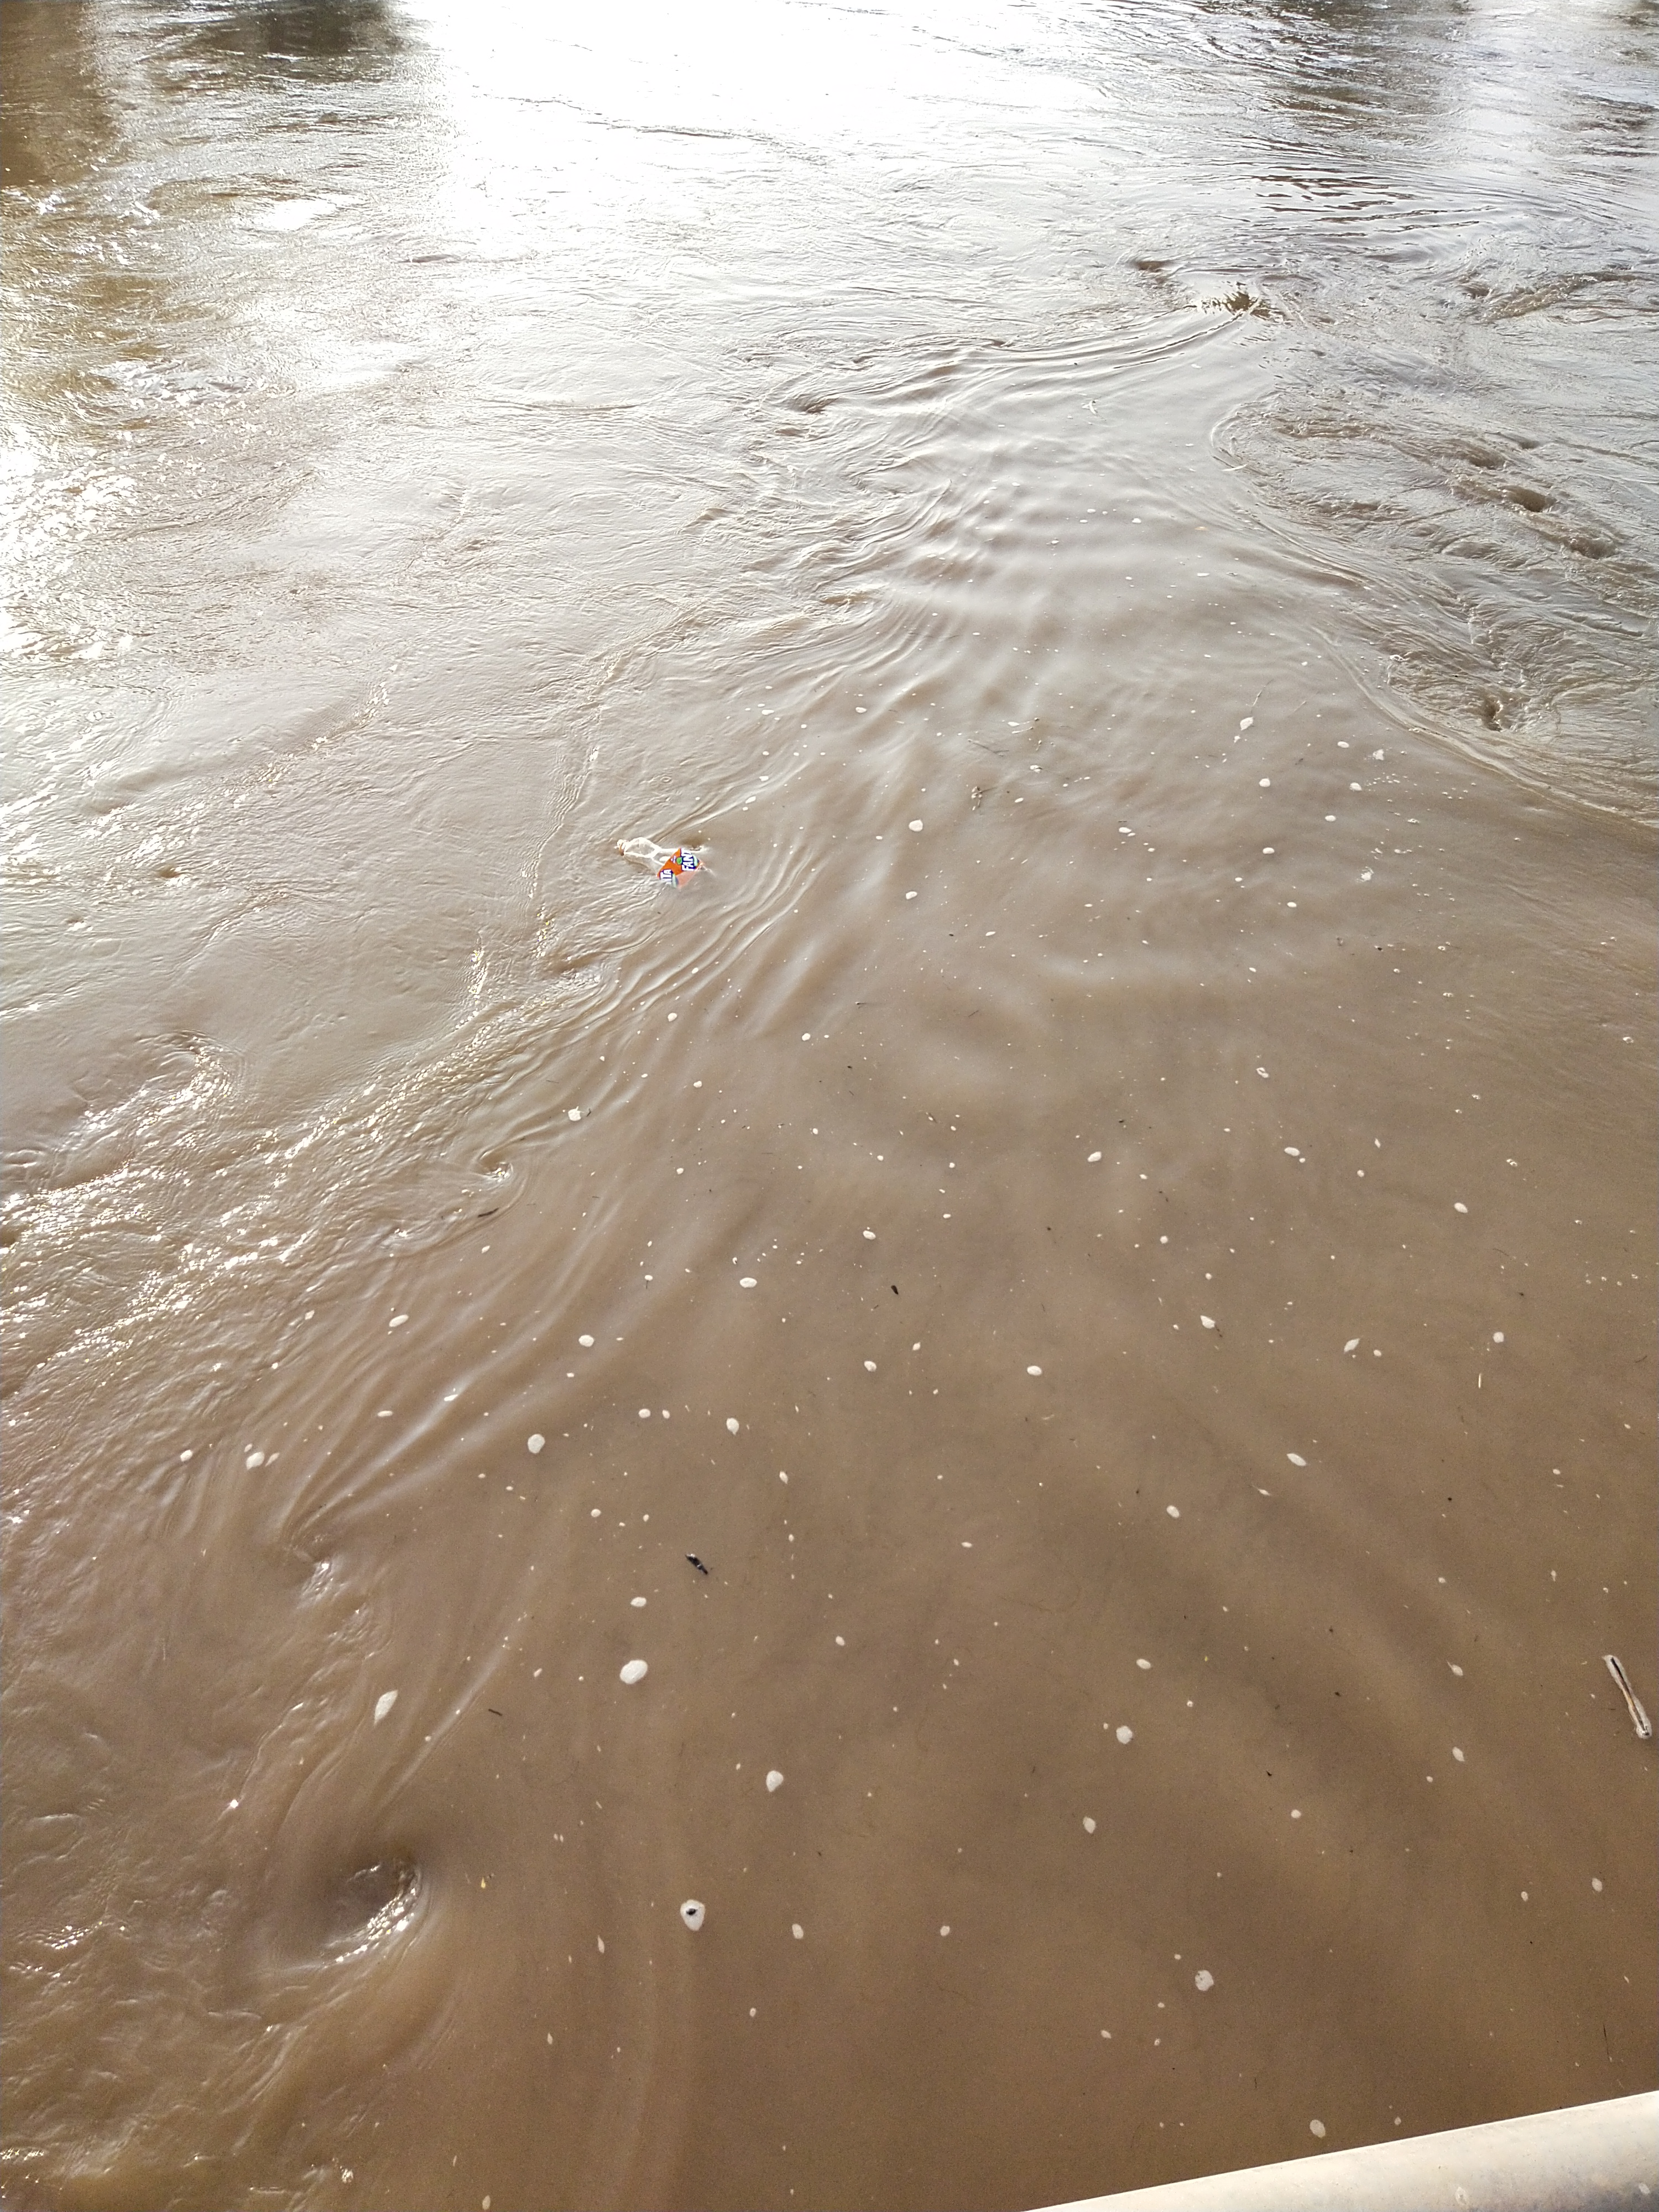Plastic Bottle: (617, 836, 716, 892)
